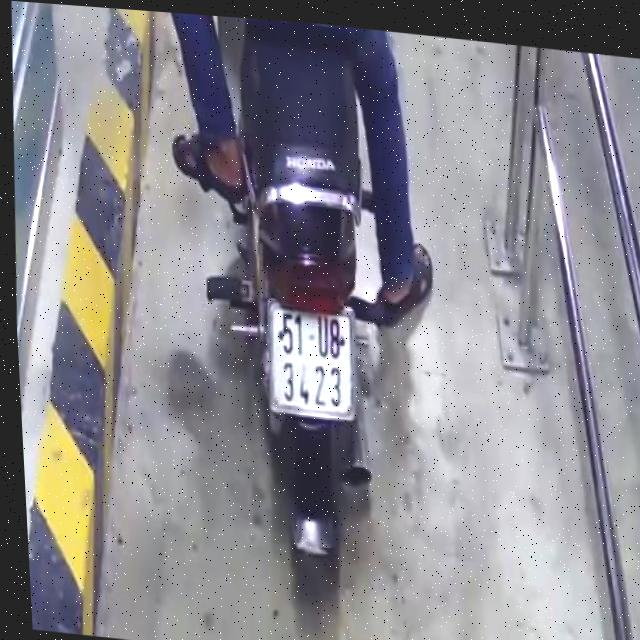motorcycle: (176, 13, 418, 621)
plate: (257, 294, 361, 427)
